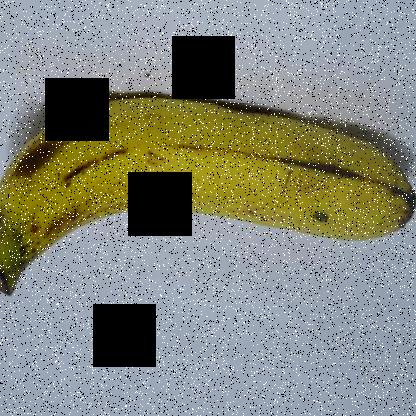ripe: (1, 86, 414, 310)
